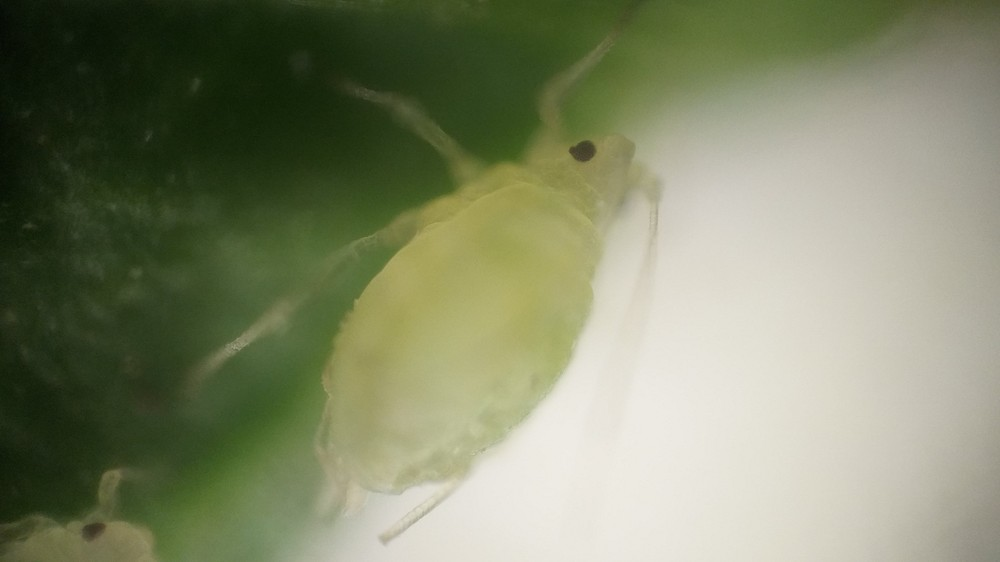Pulgon: (211, 14, 688, 542)
